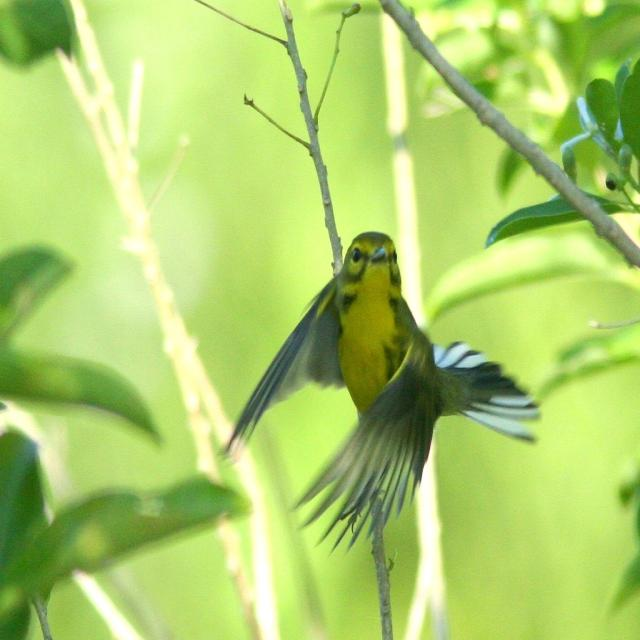bird: (222, 210, 541, 554)
